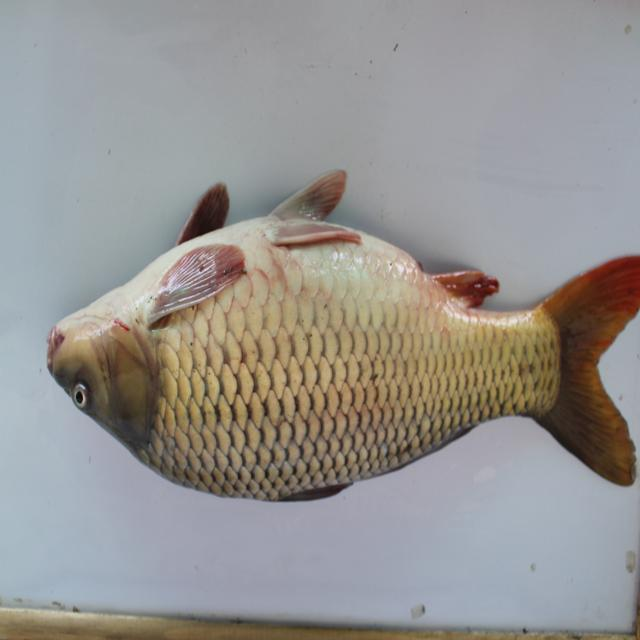CommonCarp: (44, 165, 640, 530)
